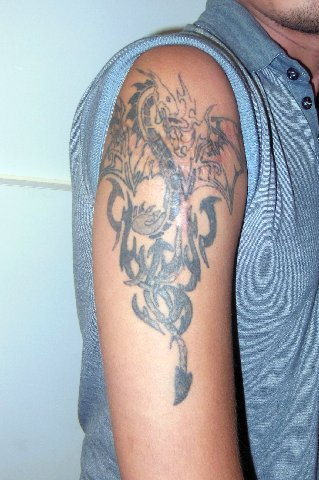tatu6_drakon: (92, 65, 242, 414)
